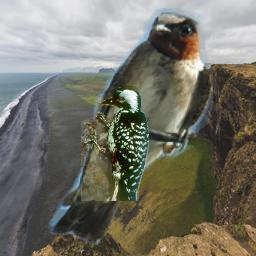Swallow: (47, 8, 213, 245)
Woodpecker: (81, 86, 149, 201)
